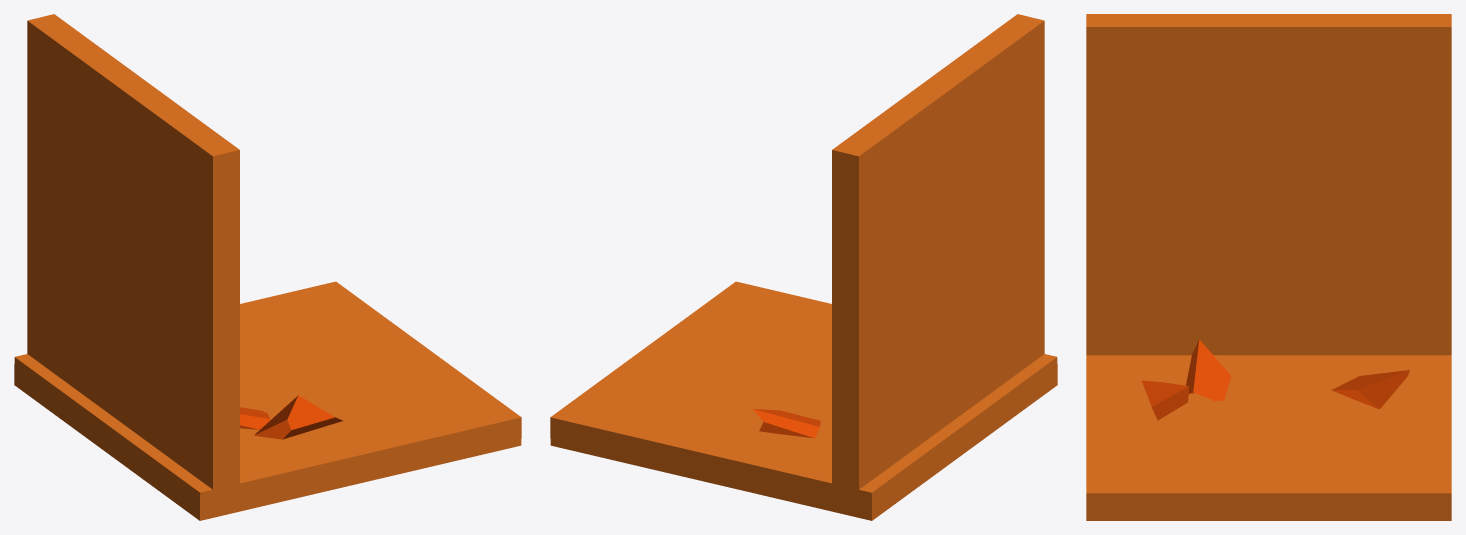
The model's file is ETE Background.fbx.
The picture shows the model from 3 angles, left to right: view 1: azimuth 30°, elevation 25°; view 2: azimuth 150°, elevation 25°; view 3: azimuth 270°, elevation 25°; orthographic projection.
Visible parts, largest first — view 1: Cube, Cube.005, Cube.001; view 2: Cube, Cube.005, Cube.003; view 3: Cube, Cube.005, Cube.002, Cube.003, Cube.001.
Boxes of the visible parts, box(x1,y1,x2,y2) form: Cube: box(27, 14, 239, 492); Cube.005: box(14, 281, 521, 520); Cube.001: box(254, 395, 343, 439); Cube: box(832, 14, 1044, 489); Cube.005: box(550, 281, 1057, 520); Cube.003: box(753, 409, 820, 438); Cube: box(1086, 14, 1451, 355); Cube.005: box(1086, 355, 1451, 520); Cube.002: box(1186, 339, 1231, 401); Cube.003: box(1331, 370, 1409, 408); Cube.001: box(1142, 380, 1189, 420).
Size of the model in its own units: 200 by 217 by 200.
